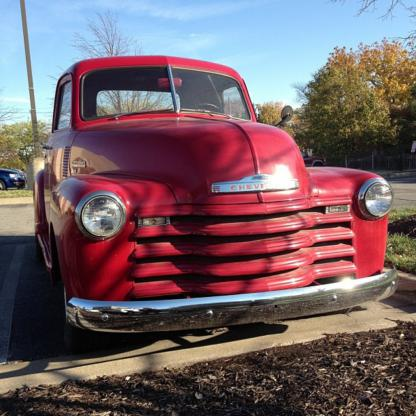Car: (33, 55, 398, 350), (0, 168, 26, 190)
Truck: (32, 55, 398, 354)
